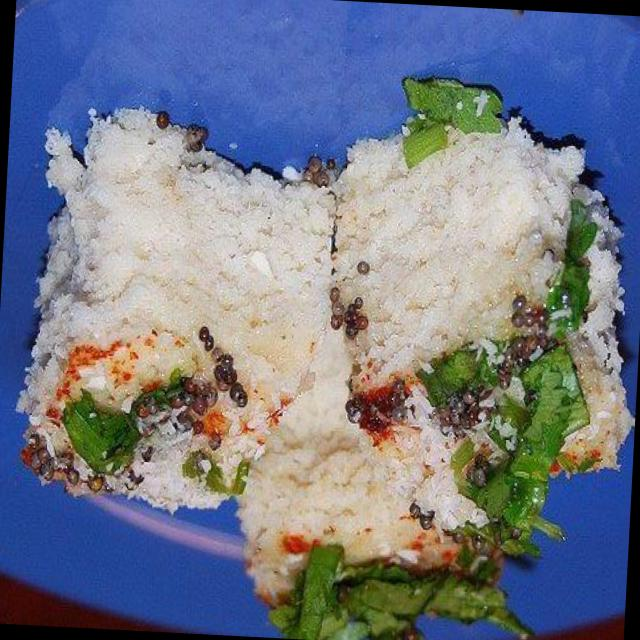dhokla: (271, 99, 640, 631), (33, 141, 330, 489)
